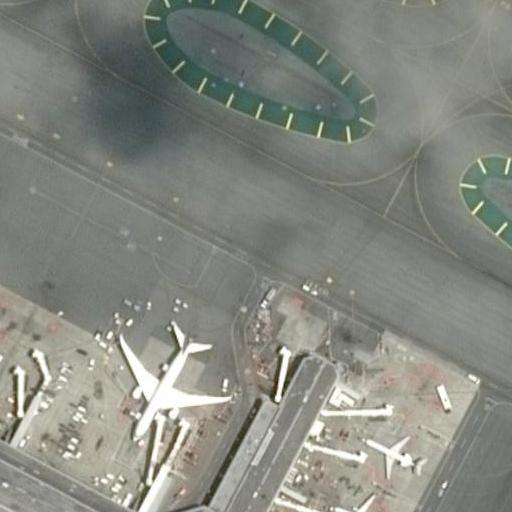Aircraft: (107, 317, 232, 440), (357, 426, 427, 480), (326, 492, 395, 512)
